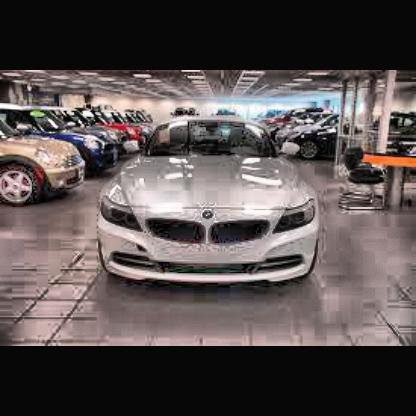BMW Z4 Convertible 2012: (103, 117, 322, 292)
